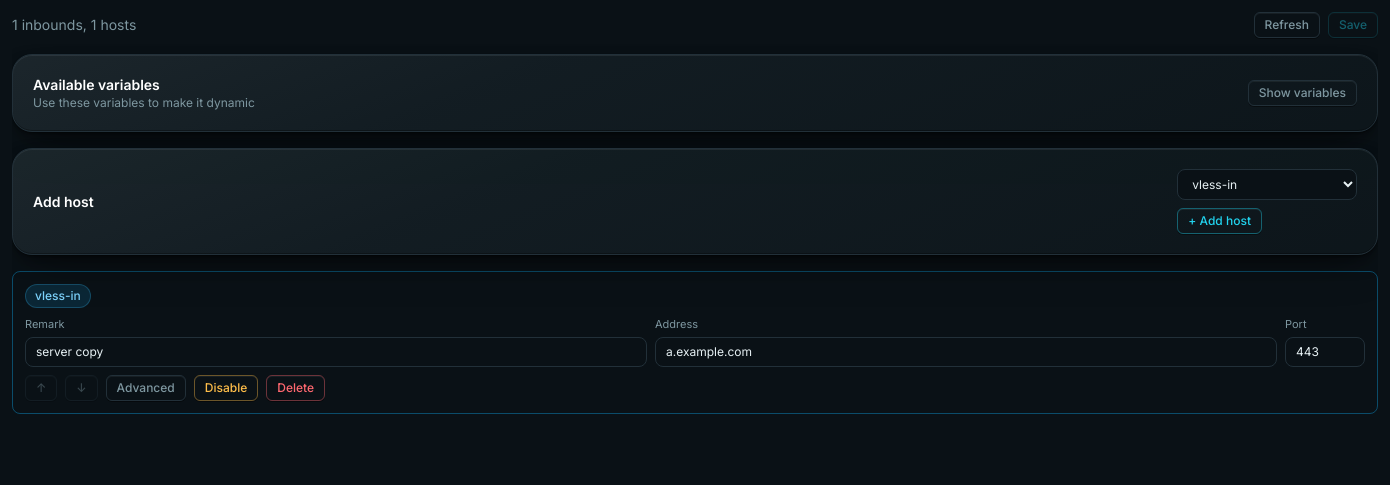
Test: a refetch while an admin is editing › does not overwrite the edit, says the hosts changed, and Discard takes the newer copy
This screenshot has width=1390, height=485.
Replace the text in the field labelled "Remark" with "my edit" at (336, 352), box [25,336,647,366]
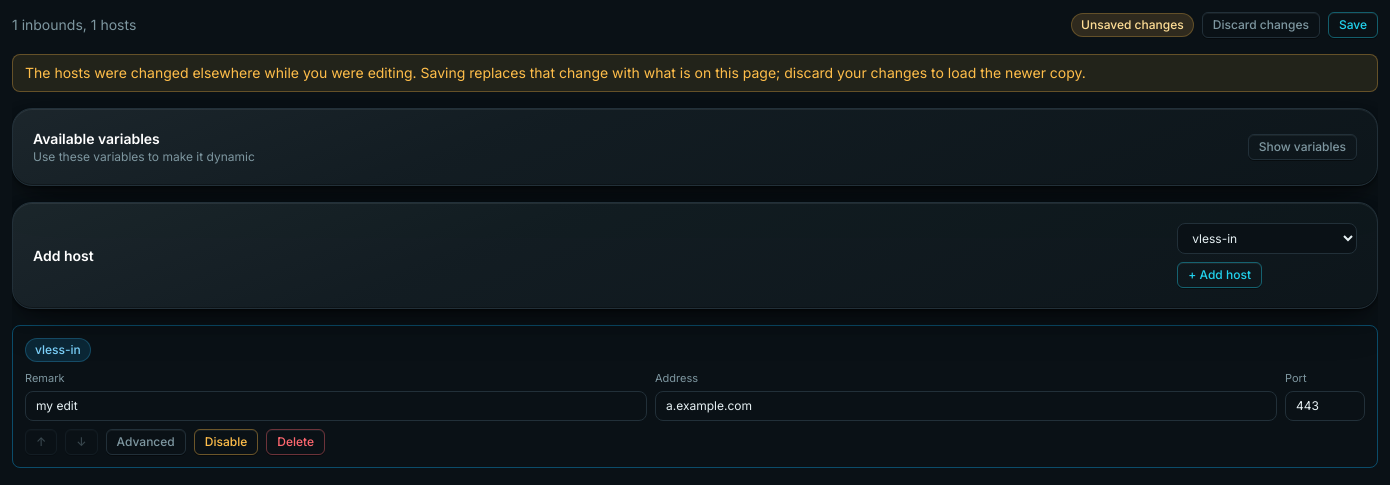
Expected: the message shows "The hosts were changed elsewhere", [25,64,1086,81]
Expected: the text "Unsaved changes" is shown, [1071,13,1194,37]
Click the button "Discard changes" at (1261, 25), box [1202,12,1320,38]
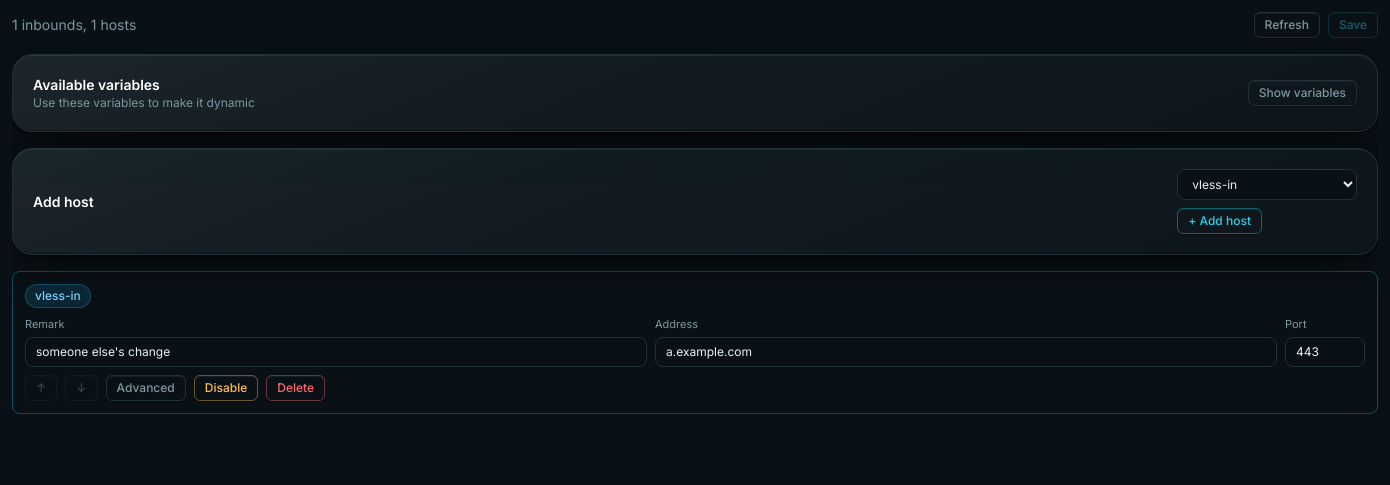
Expected: the field labelled "Remark" holds "someone else's change", [25,336,647,366]
Expected: the message is gone
